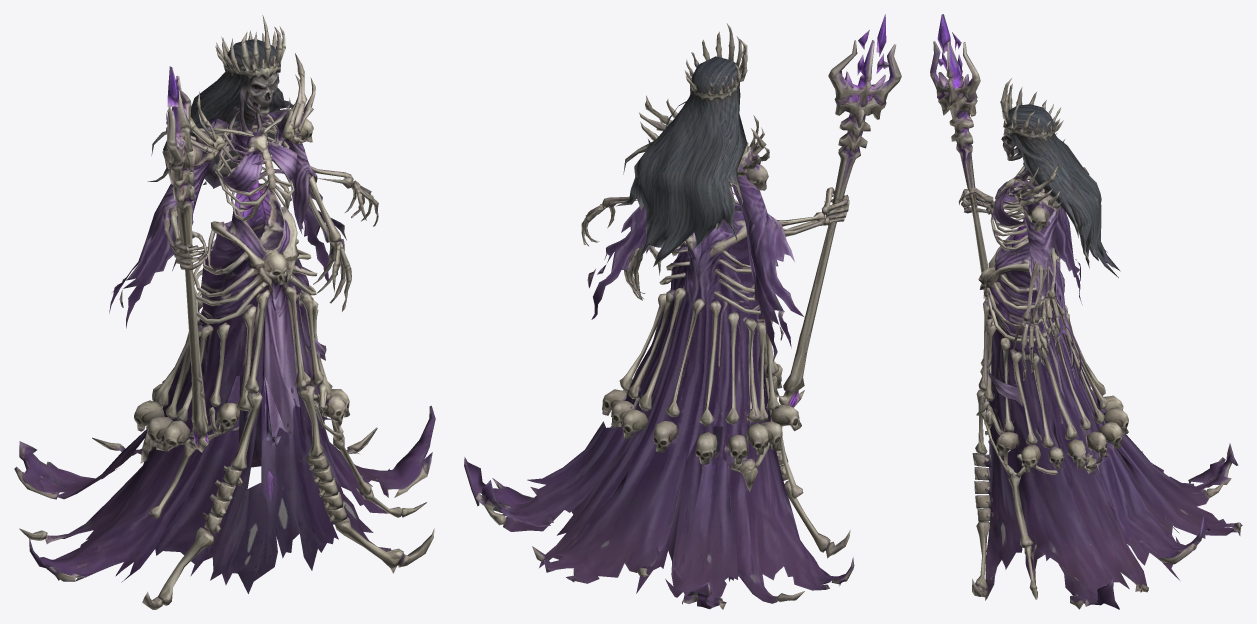
The model's file is boss-morwen.glb.
3 renders of one model, left to right at view 1: azimuth 30°, elevation 25°; view 2: azimuth 150°, elevation 25°; view 3: azimuth 270°, elevation 25°, orthographic. The views are drawn at different scales.
Bounding box in the file's own units: 0.7468 × 1 × 0.5828.
Materials: 1 (1 with a texture image).
